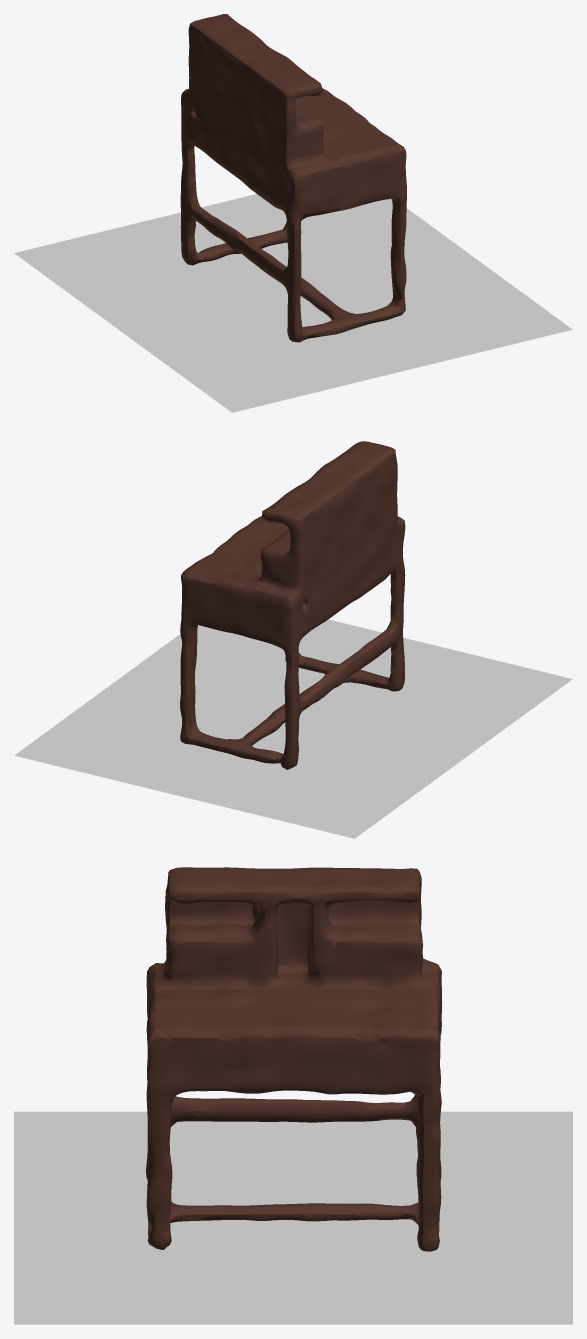
File: dressing table.glb
3 views of the same model, one above another, from view 1: azimuth 30°, elevation 25°; view 2: azimuth 150°, elevation 25°; view 3: azimuth 270°, elevation 25° (orthographic). The views are drawn at different scales.
Parts seen in each view (by area): view 1: world, table_11_5; view 2: world, table_11_5; view 3: world, table_11_5.
Boxes of the visible parts, left/top/right/bottom form: world: left=14, top=194, right=572, bottom=412; table_11_5: left=180, top=14, right=406, bottom=342; world: left=14, top=619, right=572, bottom=838; table_11_5: left=180, top=441, right=405, bottom=769; world: left=14, top=1111, right=572, bottom=1324; table_11_5: left=146, top=867, right=442, bottom=1251.
Size of the model in its own units: 1.15 by 0.8015 by 1.27.
